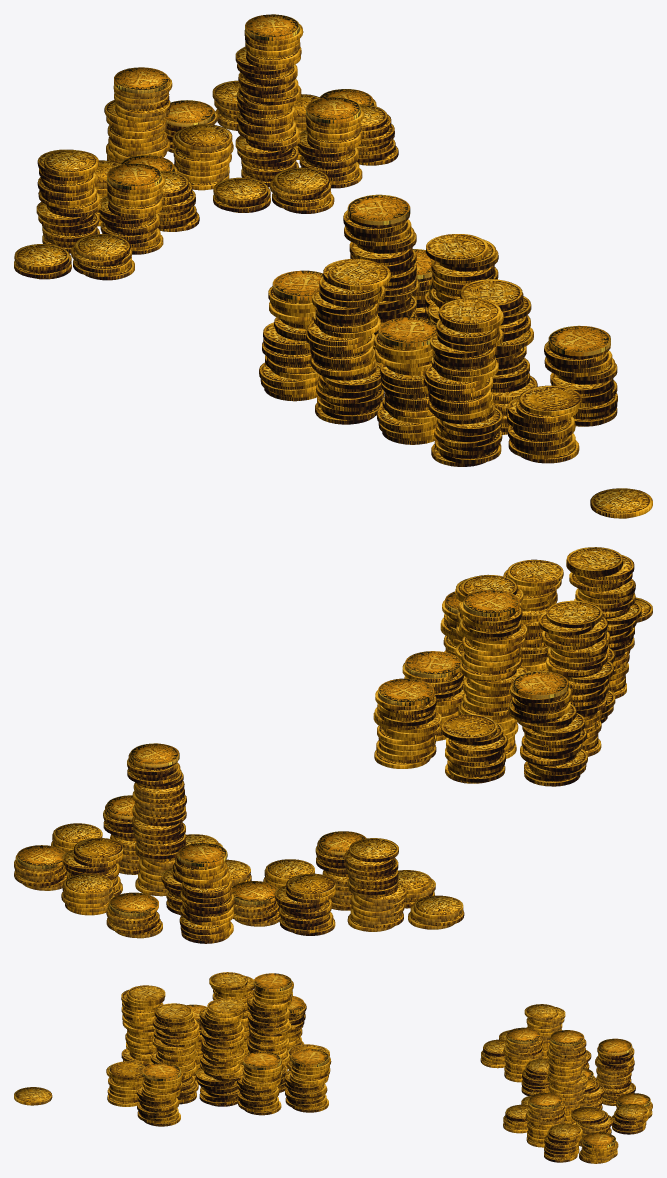
Rendered from gold.FBX.
3 renders of one model, top to bottom at view 1: azimuth 30°, elevation 25°; view 2: azimuth 150°, elevation 25°; view 3: azimuth 270°, elevation 25°, orthographic. The views are drawn at different scales.
Parts seen in each view (by area): view 1: gold2 (×2), gold1; view 2: gold2, gold1; view 3: gold2 (×2), gold1.
Boxes of the visible parts, x1,y1,x2,y2 form: gold2 (×2): (259,194,652,518); gold1: (14,14,398,280); gold2: (373,547,641,786); gold1: (14,743,464,943); gold2 (×2): (14,972,331,1126); gold1: (480,1004,652,1163).
Size of the model in its own units: 0.4355 by 0.9294 by 0.1708.
